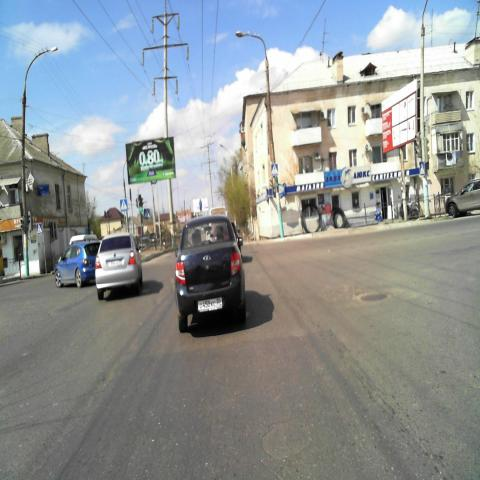5_19_1: (143, 207, 152, 221)
